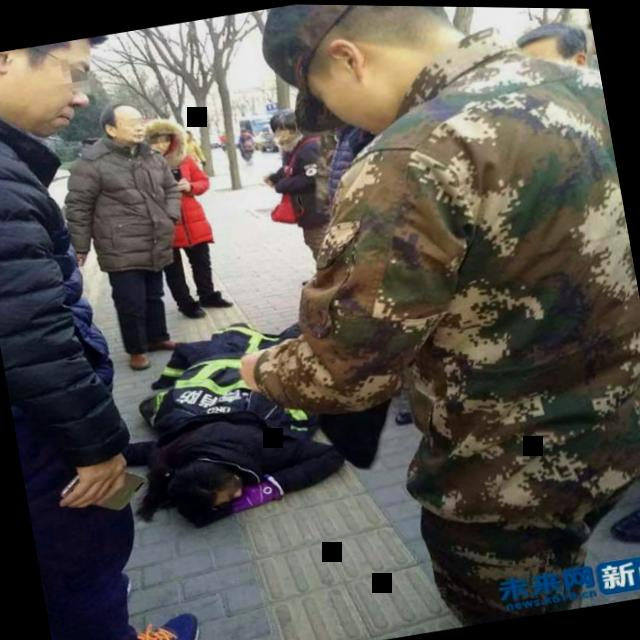Fall-Detected: (96, 289, 366, 563)
